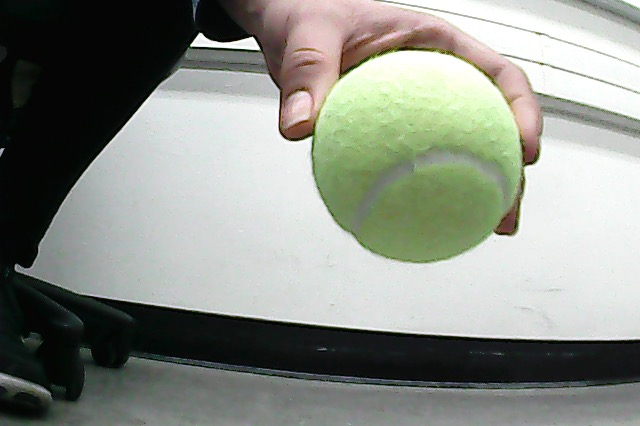ball: (307, 45, 531, 271)
